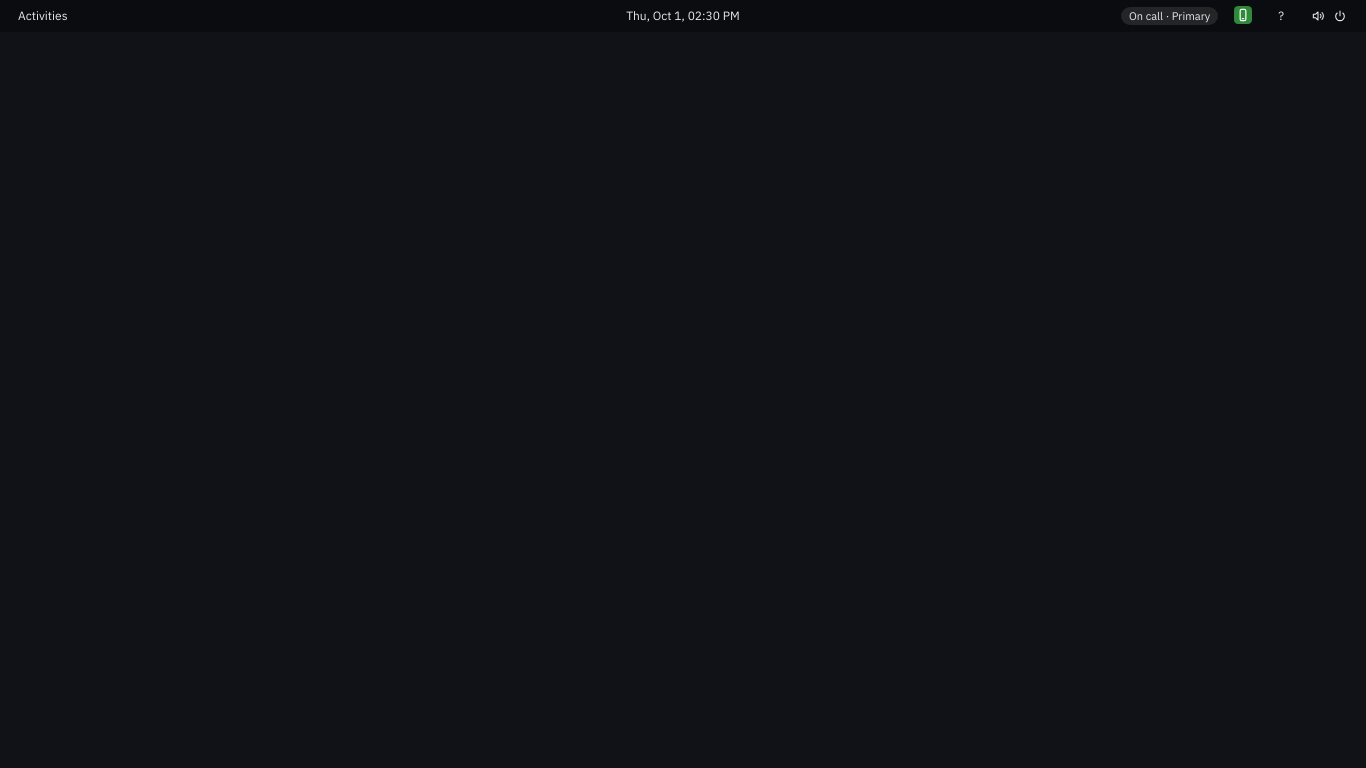
Scenario: TopBar › opens one menu at a time
Click the button named "Phone" at (1243, 15), box [1224,3,1262,27]
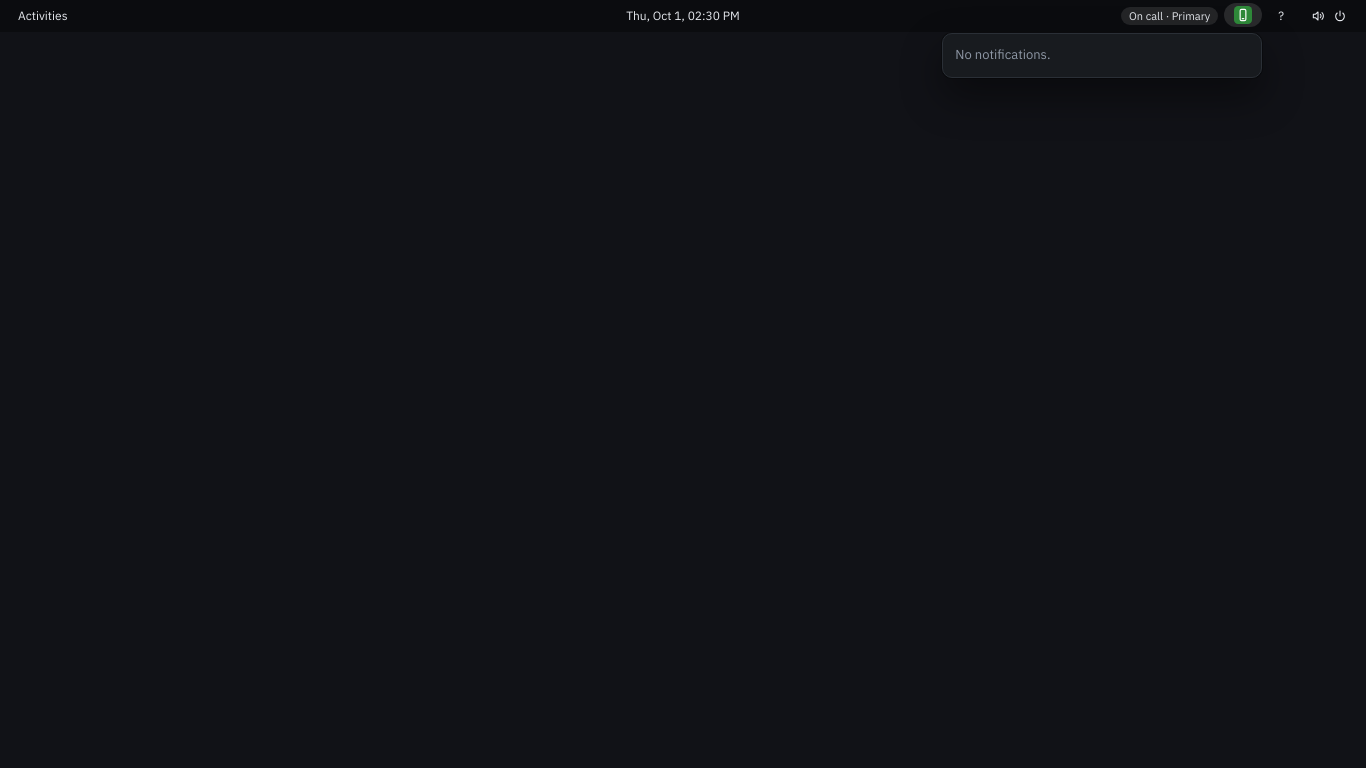
expect the dialog named "Phone notifications" is shown: met, box [942,33,1262,78]
Click the button named "System" at (1329, 16), box [1300,4,1358,28]
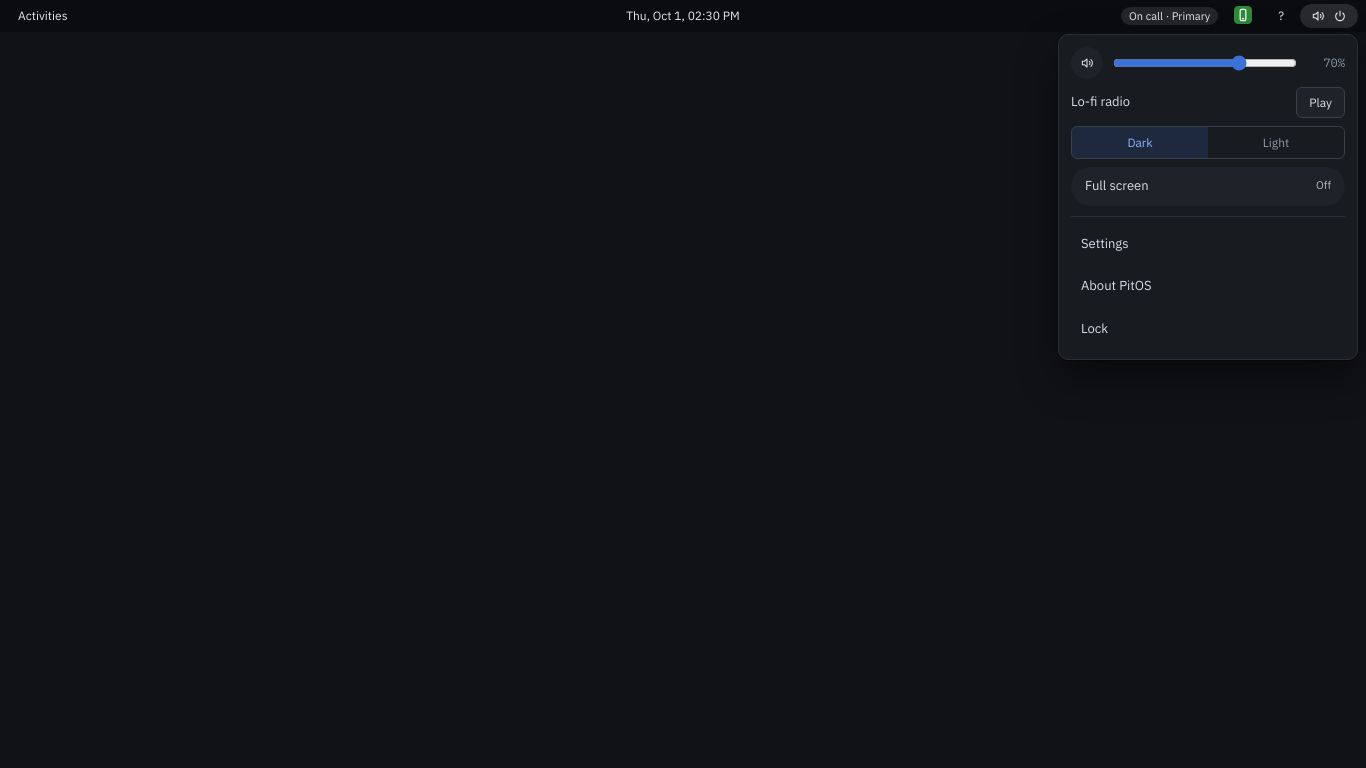
expect the element named "Quick settings" is shown: met, box [1058,34,1358,360]
